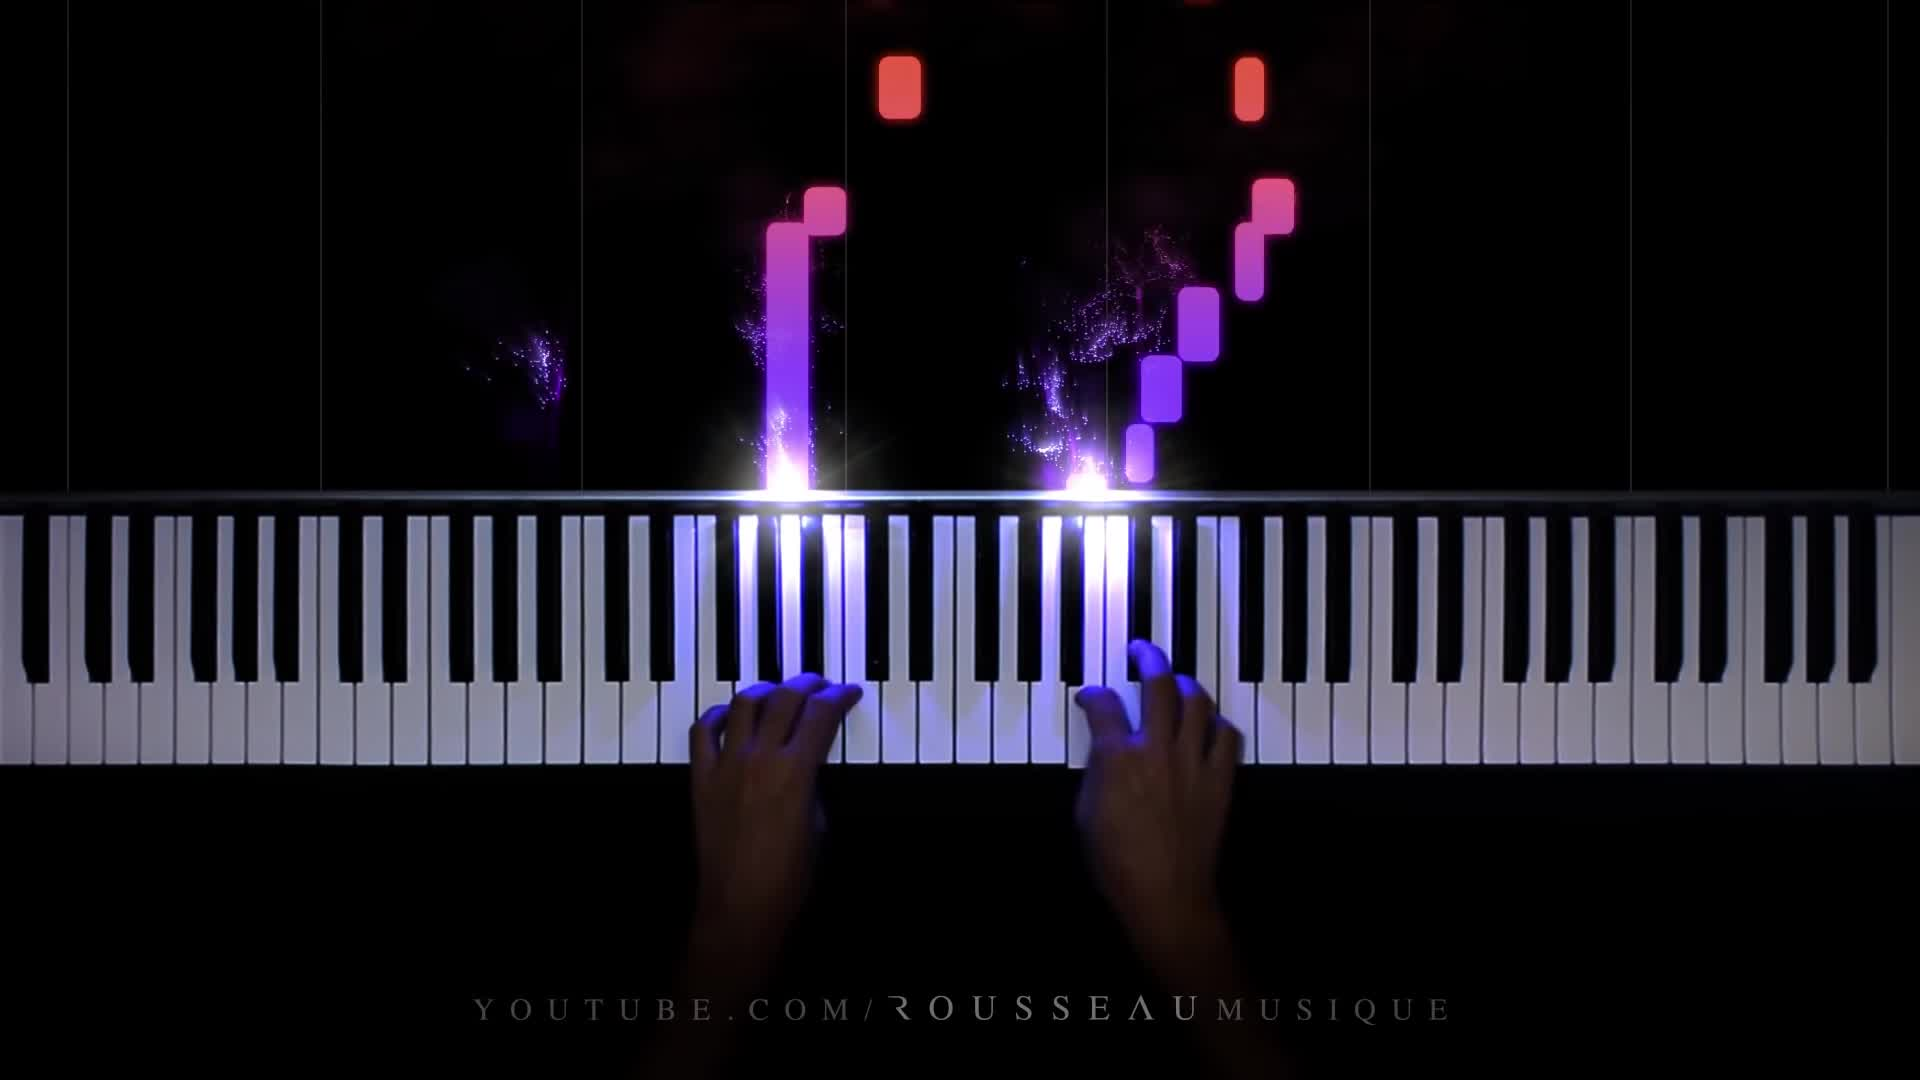left: (682, 671, 866, 865)
right: (1069, 637, 1247, 881)
